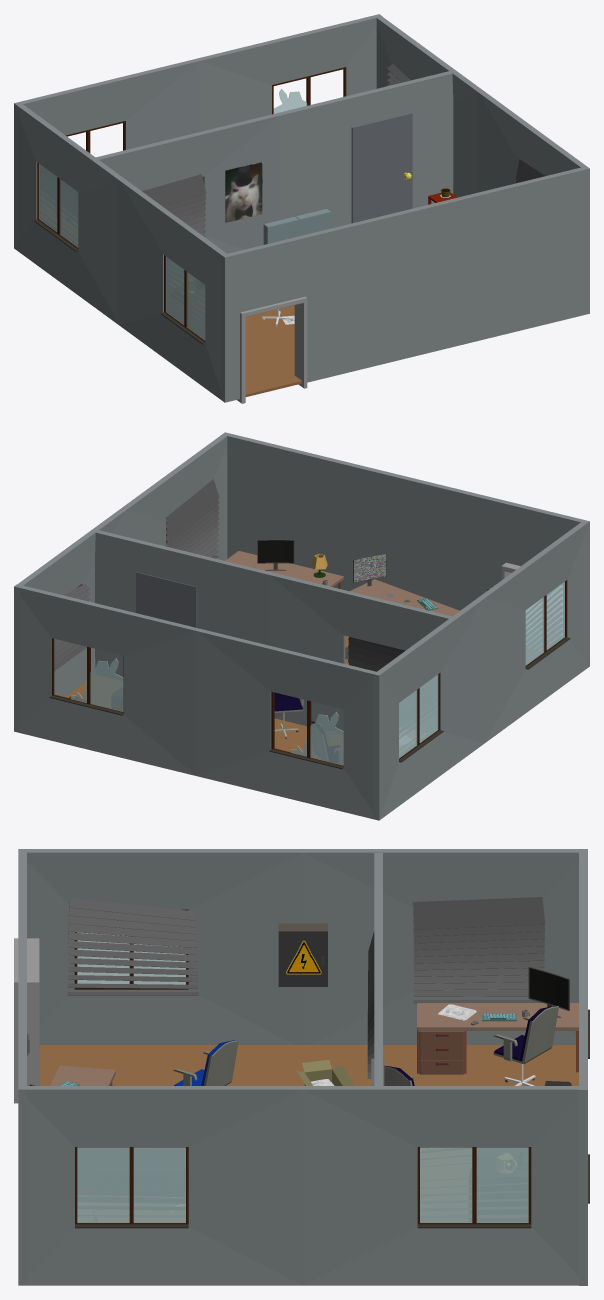
Rendered from Piso3.fbx.
The picture shows the model from 3 angles, top to bottom: view 1: azimuth 30°, elevation 25°; view 2: azimuth 150°, elevation 25°; view 3: azimuth 270°, elevation 25°; orthographic projection. The views are drawn at different scales.
Visible parts, largest first — view 1: Cube.036, Cube.035, Cube.038, Cube.006, Plane.001, Sphere, Cube.088, Cube.037, Plane.007, Plane.004, Cube.041, Cube.086; view 2: Cube.006, Cube.036, Cube.035, Cube.038, Plane.001, Cube.088, Cube.086, Sphere.001, Cube.037, Cube.050, Plane.007, Cube.051 (+4 smaller); view 3: Plane.001, Cube.035, Cube.087, Cube.037, Cube.036, Cube.042, Cube.006, Cube.070, Cube.043, Cube.038, Cube.088, Cube.053 (+4 smaller).
Boxes of the visible parts, x1,y1,x2,y2 form: Cube.036: [221, 166, 589, 403]; Cube.035: [14, 102, 230, 401]; Cube.038: [96, 71, 453, 253]; Cube.006: [15, 14, 382, 247]; Plane.001: [374, 14, 589, 197]; Sphere: [351, 112, 412, 223]; Cube.088: [37, 162, 205, 341]; Cube.037: [245, 305, 301, 396]; Plane.007: [142, 174, 206, 236]; Plane.004: [225, 162, 262, 222]; Cube.041: [263, 209, 331, 244]; Cube.086: [66, 67, 346, 152]; Cube.006: [14, 584, 382, 819]; Cube.036: [222, 432, 589, 668]; Cube.035: [373, 522, 586, 820]; Cube.038: [95, 530, 451, 734]; Plane.001: [14, 434, 227, 732]; Cube.088: [399, 580, 566, 759]; Cube.086: [51, 638, 343, 766]; Sphere.001: [136, 572, 196, 627]; Cube.037: [65, 636, 348, 758]; Cube.050: [225, 551, 343, 588]; Plane.007: [348, 637, 405, 671]; Cube.051: [350, 579, 459, 616]; Plane.001: [18, 1086, 587, 1285]; Cube.035: [27, 849, 587, 1044]; Cube.087: [75, 1147, 531, 1224]; Cube.037: [39, 1045, 578, 1085]; Cube.036: [14, 849, 39, 1283]; Cube.042: [417, 1003, 578, 1074]; Cube.006: [579, 852, 589, 1285]; Cube.070: [278, 931, 327, 986]; Cube.043: [493, 1005, 558, 1085]; Cube.038: [374, 853, 382, 1085]; Cube.088: [74, 909, 188, 989]; Cube.053: [173, 1040, 238, 1085].
Bounding box in the file's own units: 2015 × 976 × 2024.
Materials: 119 (14 with a texture image).
